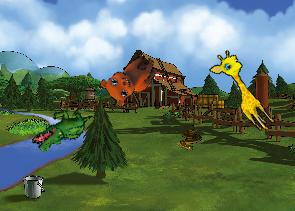bear: (95, 42, 162, 112)
crocodile: (29, 95, 94, 164)
giraffe: (205, 46, 285, 135)
